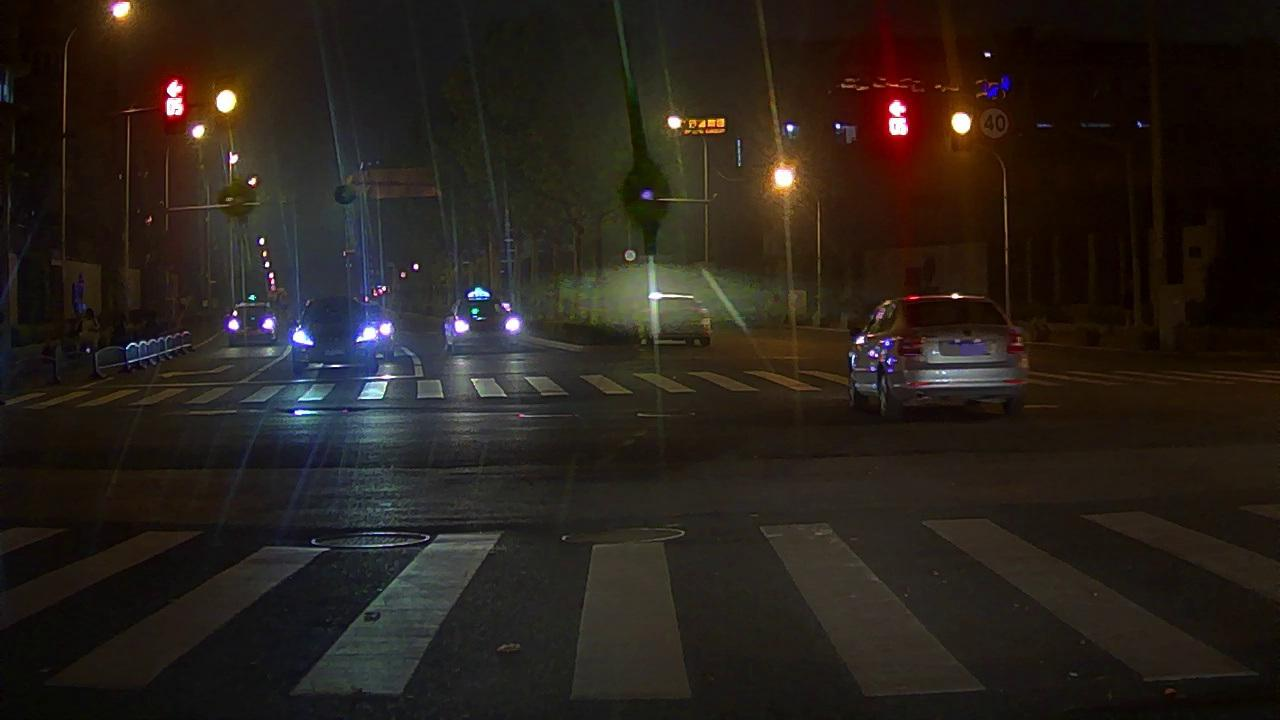traffic_light: (166, 79, 185, 131), (885, 98, 908, 139), (215, 89, 236, 114), (952, 111, 970, 135)
